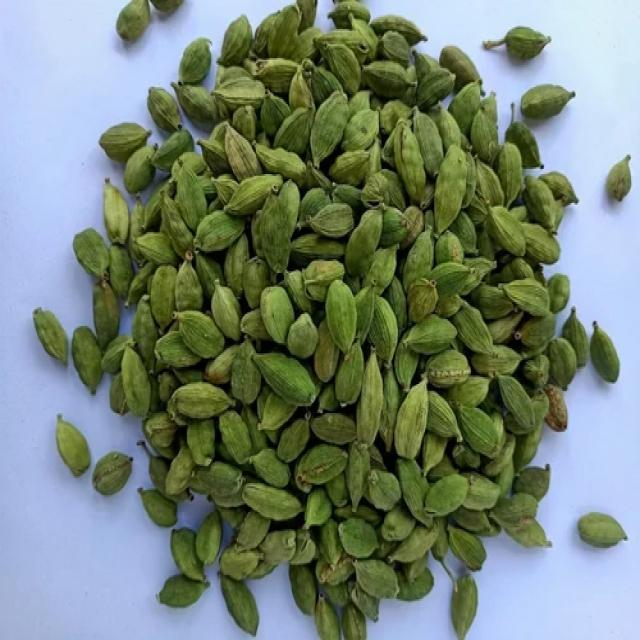Cardamom: (88, 14, 585, 566)
